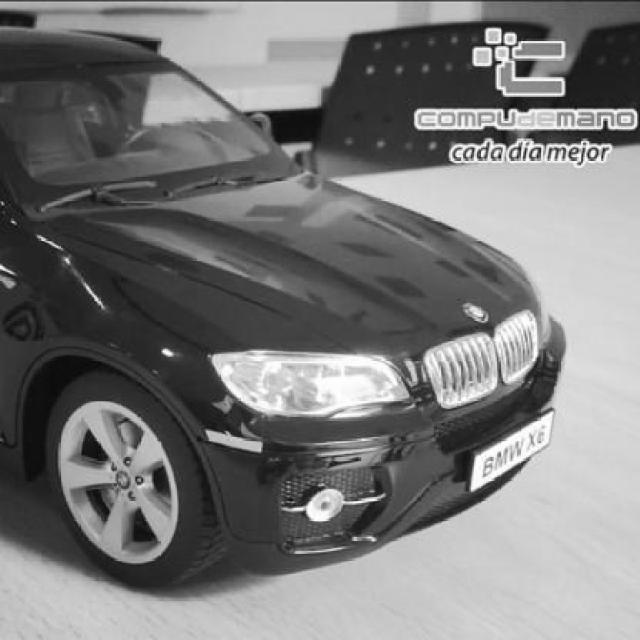car: (0, 28, 569, 589)
